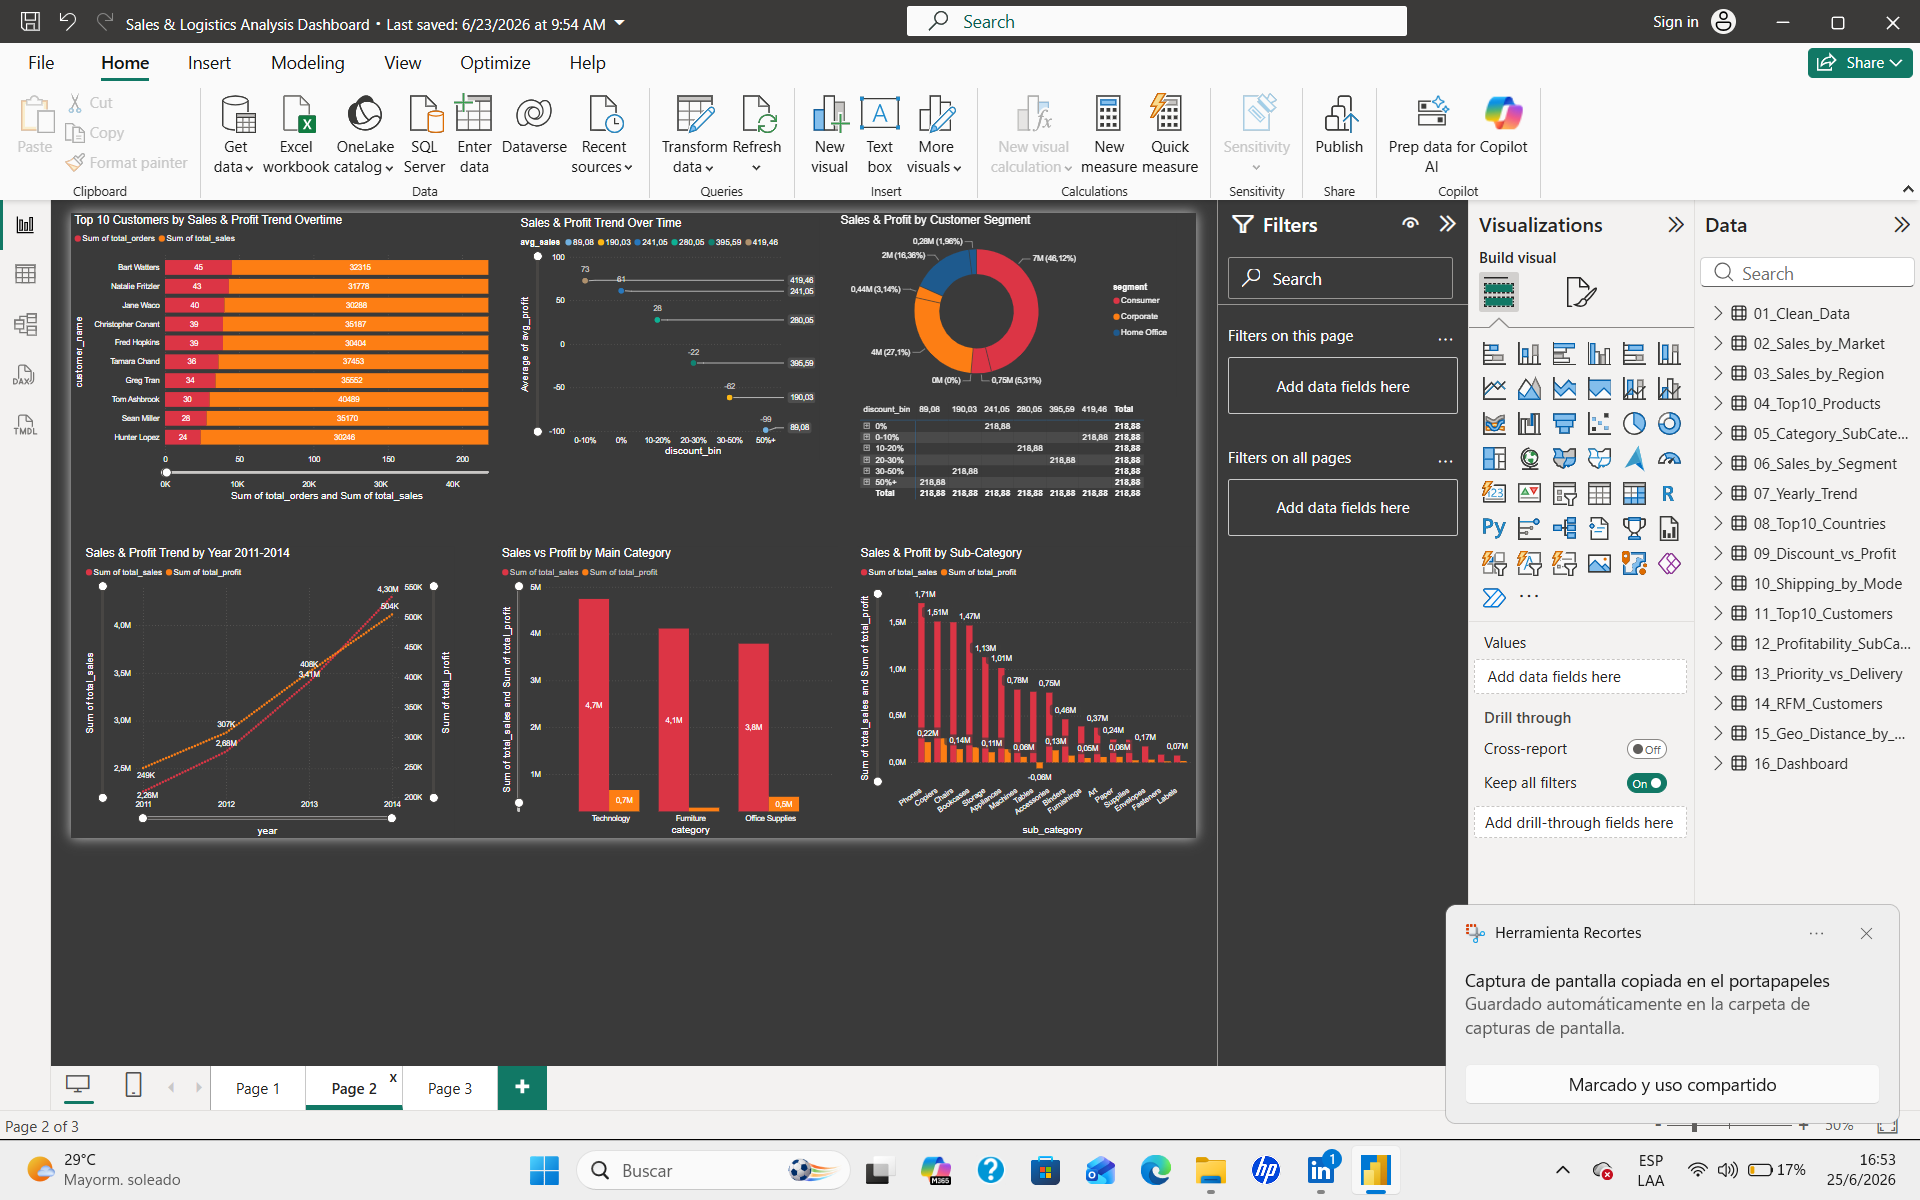

Layout of this report page (visuals, bound fields, positions):
{"tool":"powerbi","page":{"name":"Page 2","canvas":[1800,1000],"ordinal":1},"visuals":[{"type":"clusteredColumnChart","title":"Sales vs Profit by Main Category","fields":{"Category":["05_Category_SubCategory.category"],"Y":["Sum(05_Category_SubCategory.total_sales)","Sum(05_Category_SubCategory.total_profit)"]},"box":[684,534,542,466],"z":0},{"type":"barChart","title":"Top 10 Customers by Sales & Profit Trend Overtime","fields":{"Category":["11_Top10_Customers.customer_name"],"Y":["Sum(11_Top10_Customers.total_orders)","Sum(11_Top10_Customers.total_sales)"]},"box":[0,0,684,464],"z":1000},{"type":"donutChart","title":"Sales & Profit by Customer Segment","fields":{"Category":["06_Sales_by_Segment.segment"],"Y":["Sum(06_Sales_by_Segment.total_sales)","Sum(06_Sales_by_Segment.total_profit)","Sum(06_Sales_by_Segment.avg_order_value)"]},"box":[1226,0,542,294],"z":2000},{"type":"lineChart","title":"Sales & Profit Trend by Year 2011-2014","fields":{"Category":["07_Yearly_Trend.year"],"Y2":["Sum(07_Yearly_Trend.total_profit)"],"Y":["Sum(07_Yearly_Trend.total_sales)"]},"box":[18.6,534.3,594.3,465.7],"z":3000},{"type":"lineChart","title":"Sales & Profit Trend Over Time","fields":{"Category":["09_Discount_vs_Profit.discount_bin"],"Y":["Avg(09_Discount_vs_Profit.avg_profit)"],"Series":["09_Discount_vs_Profit.avg_sales"]},"box":[714,6,482,388],"z":4000},{"type":"lineClusteredColumnComboChart","title":"Sales & Profit by Sub-Category","fields":{"Category":["05_Category_SubCategory.sub_category"],"Y":["Sum(05_Category_SubCategory.total_sales)","Sum(05_Category_SubCategory.total_profit)"]},"box":[1258,534,542,466],"z":5000},{"type":"pivotTable","fields":{"Rows":["09_Discount_vs_Profit.discount_bin","09_Discount_vs_Profit.avg_profit","09_Discount_vs_Profit.total_orders"],"Columns":["09_Discount_vs_Profit.avg_sales"],"Values":["Sum(12_Profitability_SubCategory.profit_margin_pct)"]},"box":[1258,300,542,186],"z":6000}]}

Visuals, with their boxes on the page's 1800x1000 design canvas (x1, y1, x2, y2). These are canvas units, not pixel positions in the 1920x1200 screenshot, which may show the page scaled, cropped or inside an application window:
"Sales vs Profit by Main Category" clusteredColumnChart: crop(684, 534, 1226, 1000)
"Top 10 Customers by Sales & Profit Trend Overtime" barChart: crop(0, 0, 684, 464)
"Sales & Profit by Customer Segment" donutChart: crop(1226, 0, 1768, 294)
"Sales & Profit Trend by Year 2011-2014" lineChart: crop(19, 534, 613, 1000)
"Sales & Profit Trend Over Time" lineChart: crop(714, 6, 1196, 394)
"Sales & Profit by Sub-Category" lineClusteredColumnComboChart: crop(1258, 534, 1800, 1000)
pivotTable - 09_Discount_vs_Profit.discount_bin x 09_Discount_vs_Profit.avg_profit: crop(1258, 300, 1800, 486)
